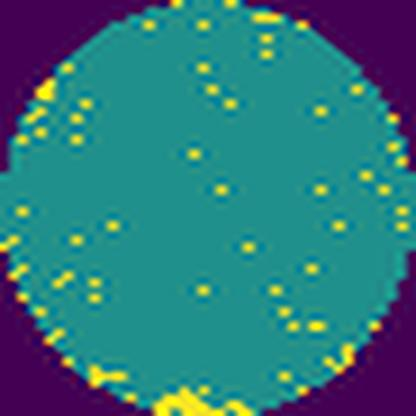Edge-Loc: (153, 385, 258, 416)
